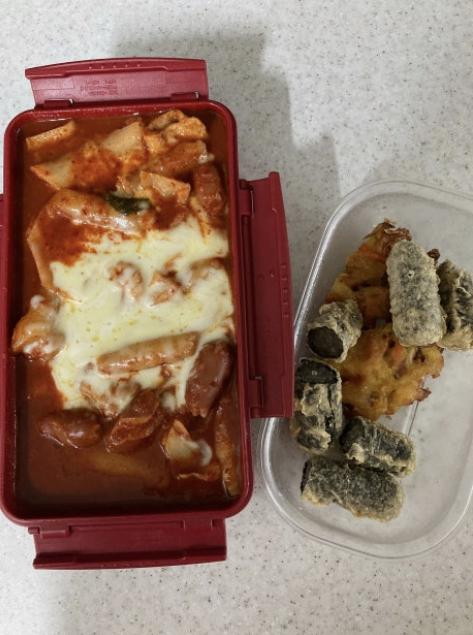Lunch Box: (0, 58, 292, 567), (259, 181, 472, 557)
